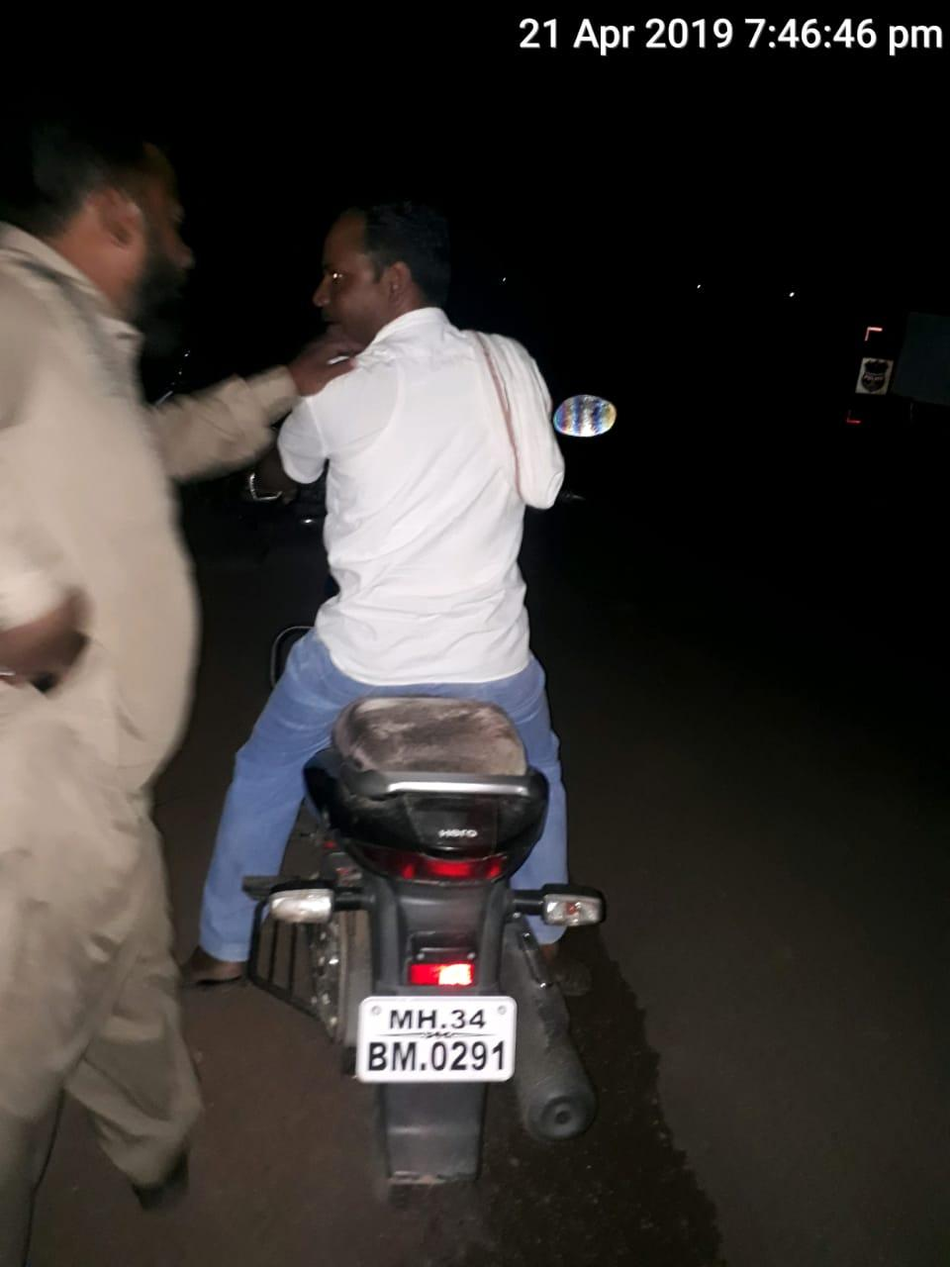plate: (330, 980, 527, 1110)
